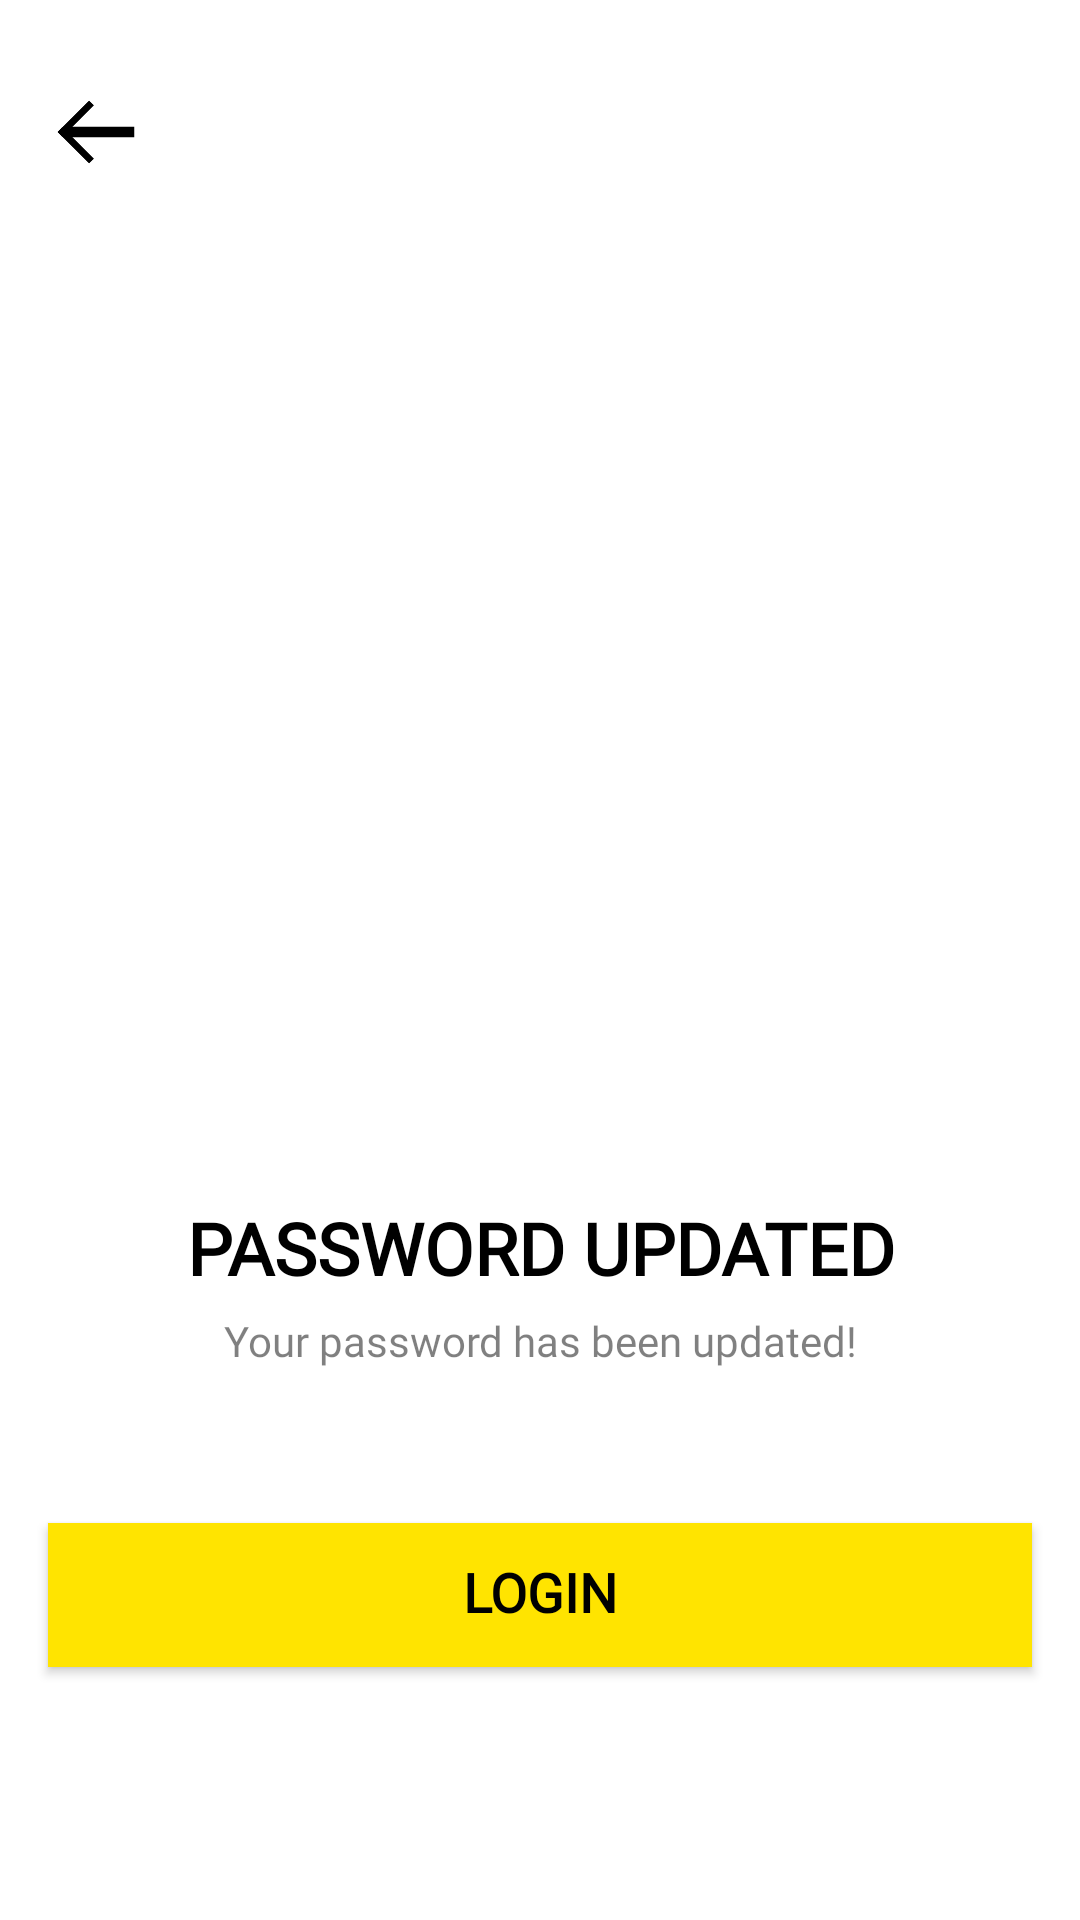

Screen size 1080x1920. Icon name, then its box in pixels as (x1, y1, x2, y2):
back arrow: (58, 101, 135, 163)
